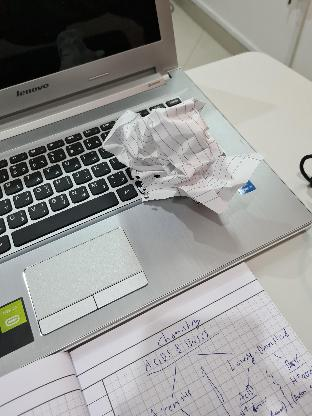Paper: (109, 98, 257, 206)
